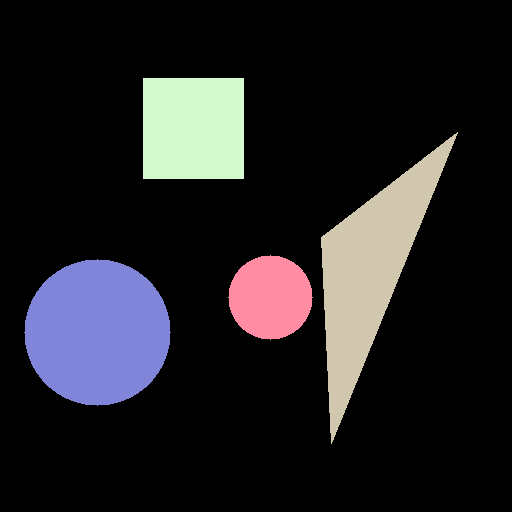circle: (24, 259, 170, 405), (228, 255, 312, 339)
square: (143, 78, 243, 178)
triangle: (321, 132, 457, 443)
